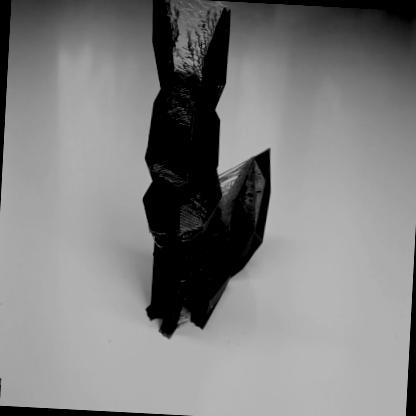fail: (161, 1, 221, 84)
